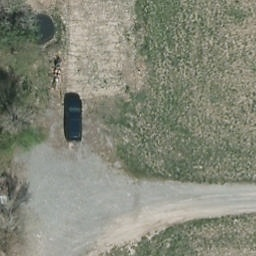car: (64, 97, 83, 142)
